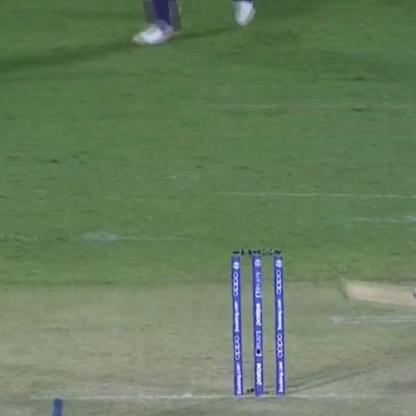bat: (332, 260, 416, 316)
